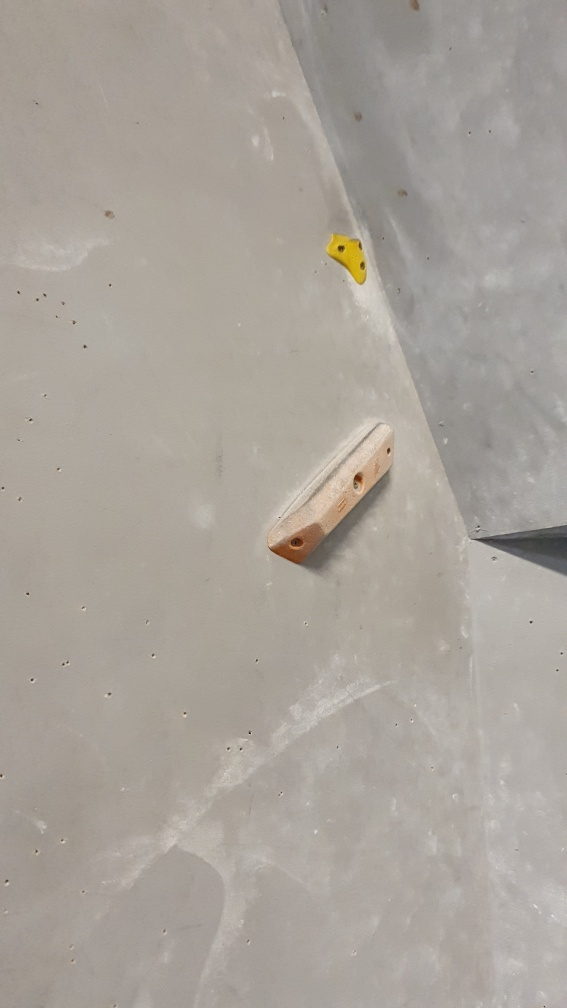Pinch: (265, 419, 399, 574)
